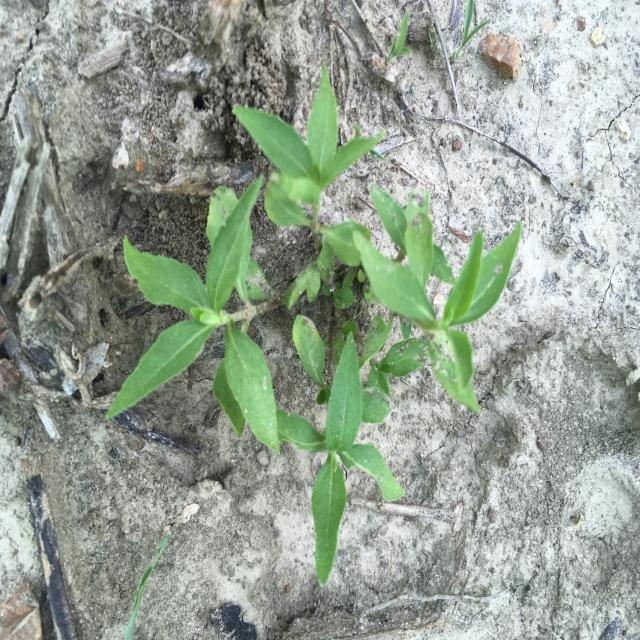Eclipta: (105, 64, 522, 588)
